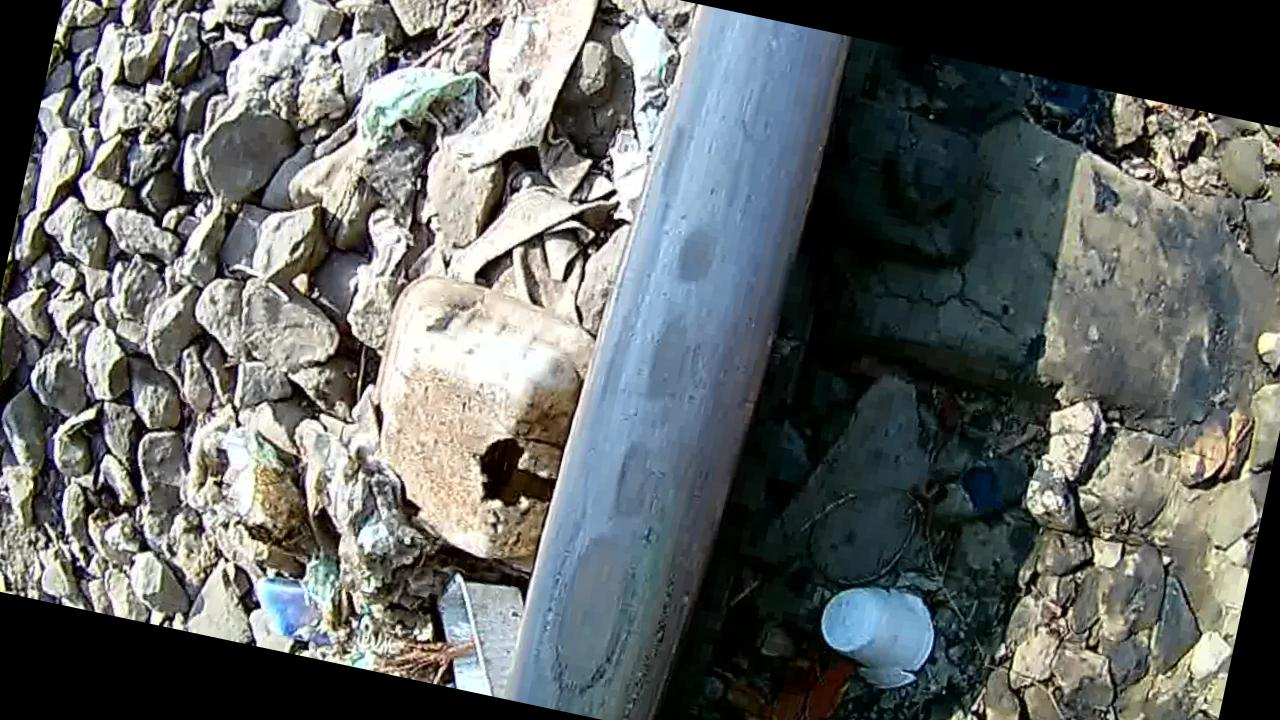bolt_missing: (512, 0, 865, 720)
